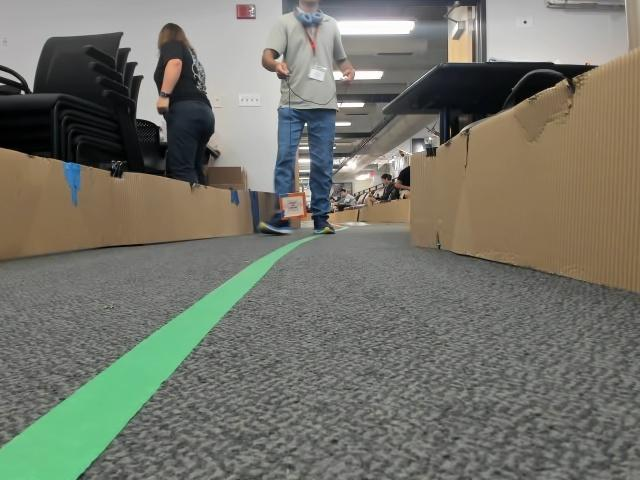Do Not Go Around: (284, 200, 300, 212)
